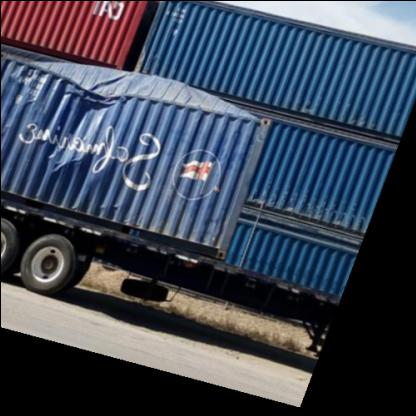Damage: (2, 55, 262, 211)
